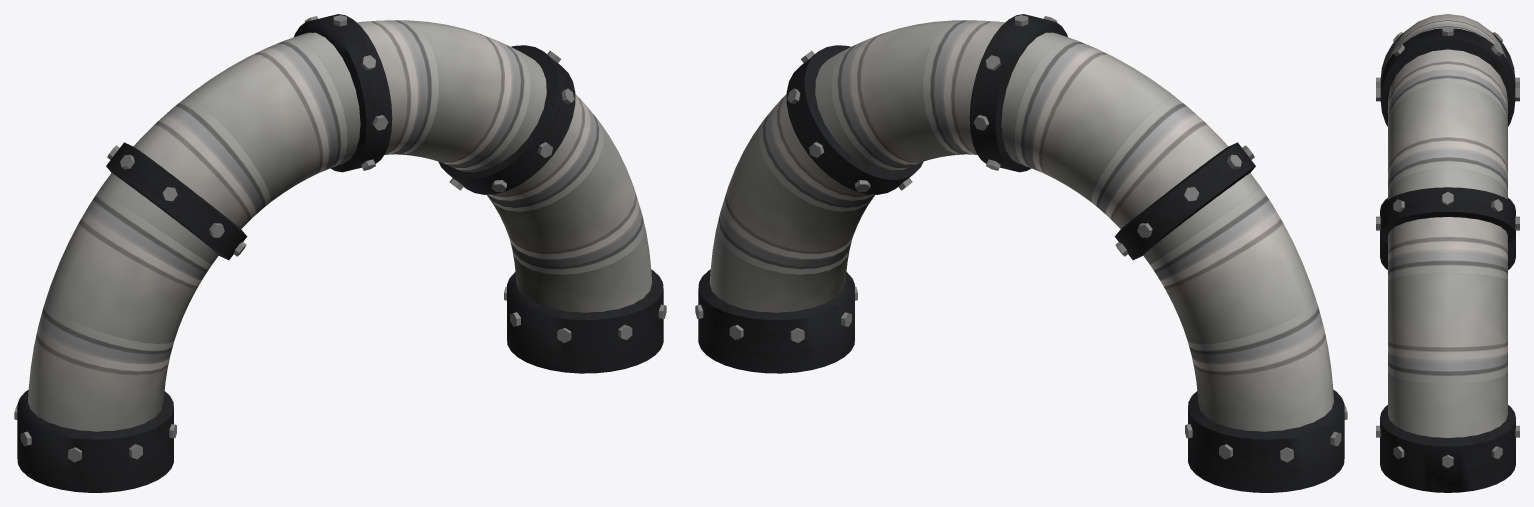
Rendered from metalPipingBend.fbx.
The picture shows the model from 3 angles, left to right: view 1: azimuth 30°, elevation 25°; view 2: azimuth 150°, elevation 25°; view 3: azimuth 270°, elevation 25°; orthographic projection. The views are drawn at different scales.
Visible parts, largest first — view 1: Torus.001, Cylinder.008, screw.039; view 2: Torus.001, Cylinder.008, screw.039; view 3: Torus.001, Cylinder.008, screw.039.
Part boxes in pixels (box(x1,y1,x2,y2)): Torus.001: box(28, 20, 652, 431); Cylinder.008: box(17, 14, 663, 492); screw.039: box(14, 15, 666, 462); Torus.001: box(709, 20, 1333, 431); Cylinder.008: box(698, 14, 1344, 492); screw.039: box(695, 15, 1347, 462); Torus.001: box(1388, 14, 1507, 437); Cylinder.008: box(1380, 28, 1515, 492); screw.039: box(1376, 27, 1519, 467).
Bounding box in the file's own units: 1022 × 589 × 232.
